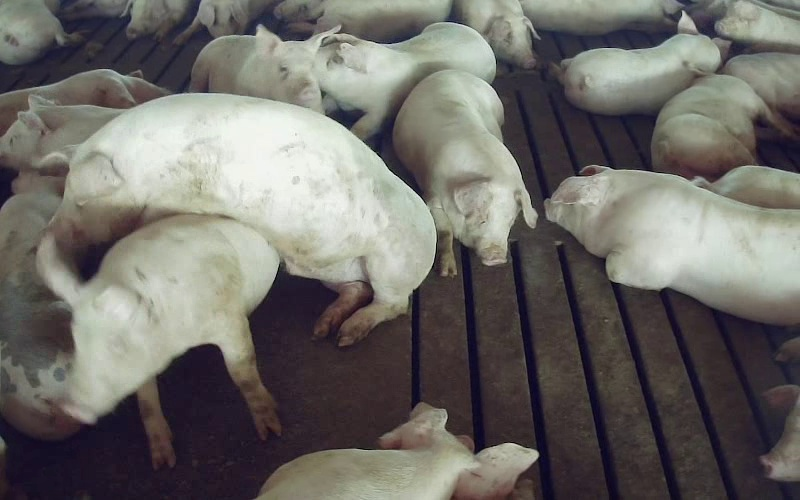pig: (38, 215, 280, 467), (545, 166, 799, 324), (393, 70, 537, 276), (257, 403, 537, 499), (0, 172, 79, 439), (316, 22, 495, 139), (551, 11, 730, 114), (651, 74, 790, 180), (189, 25, 340, 112), (0, 69, 170, 135), (288, 0, 451, 42), (451, 0, 539, 68), (520, 0, 682, 34), (715, 0, 799, 53)
